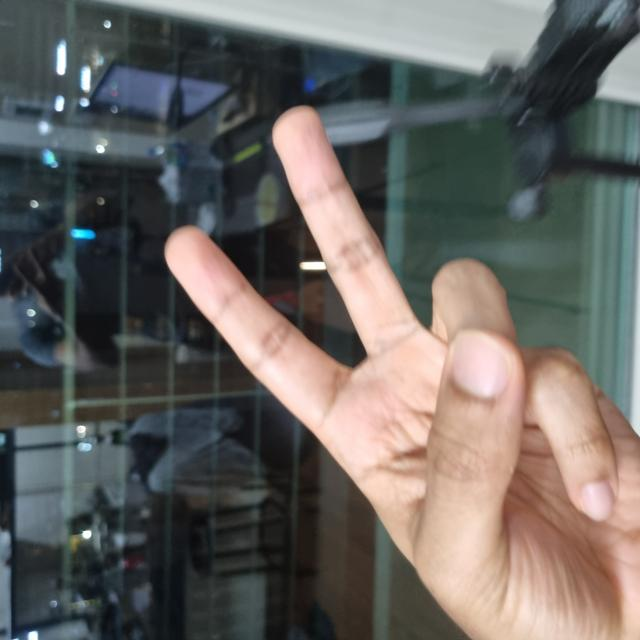Scissors: (1, 171, 534, 639)
